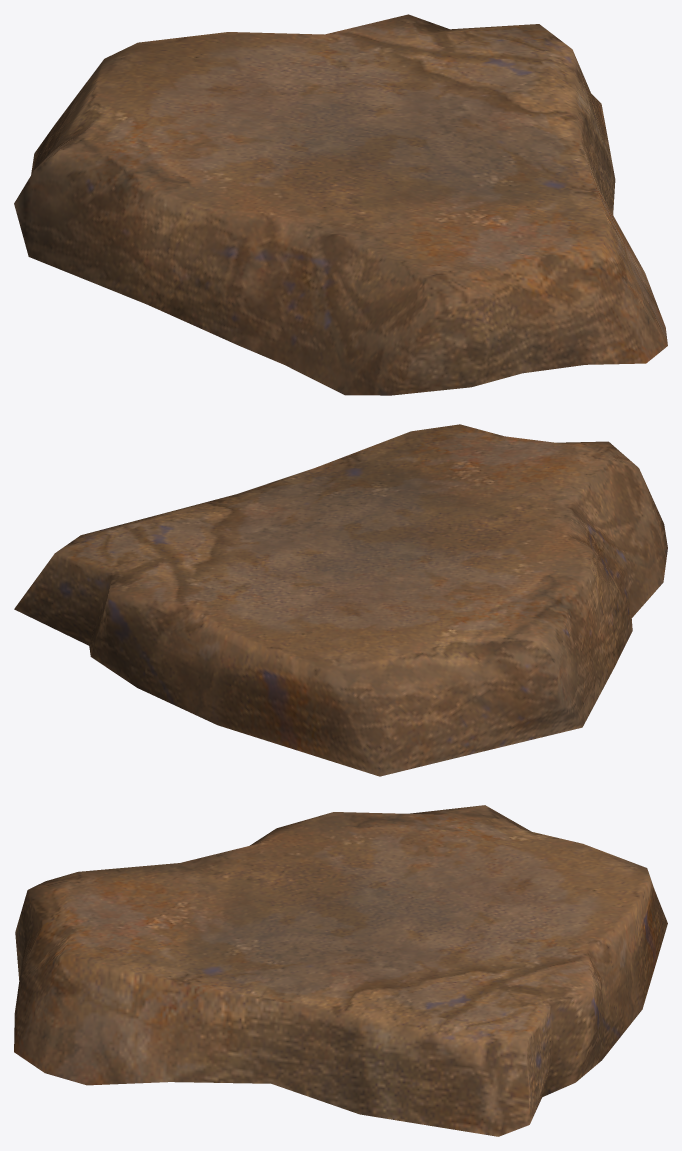
File: Rock_Shales_03.fbx
The picture shows the model from 3 angles, top to bottom: view 1: azimuth 30°, elevation 25°; view 2: azimuth 150°, elevation 25°; view 3: azimuth 270°, elevation 25°; orthographic projection. The views are drawn at different scales.
Visible parts, largest first — view 1: polySurface232; view 2: polySurface232; view 3: polySurface232.
Boxes of the visible parts, left/top/right/bottom form: polySurface232: left=14, top=14, right=667, bottom=395; polySurface232: left=14, top=424, right=667, bottom=776; polySurface232: left=14, top=805, right=667, bottom=1136.
Size of the model in its own units: 83.18 by 16.12 by 86.78.
